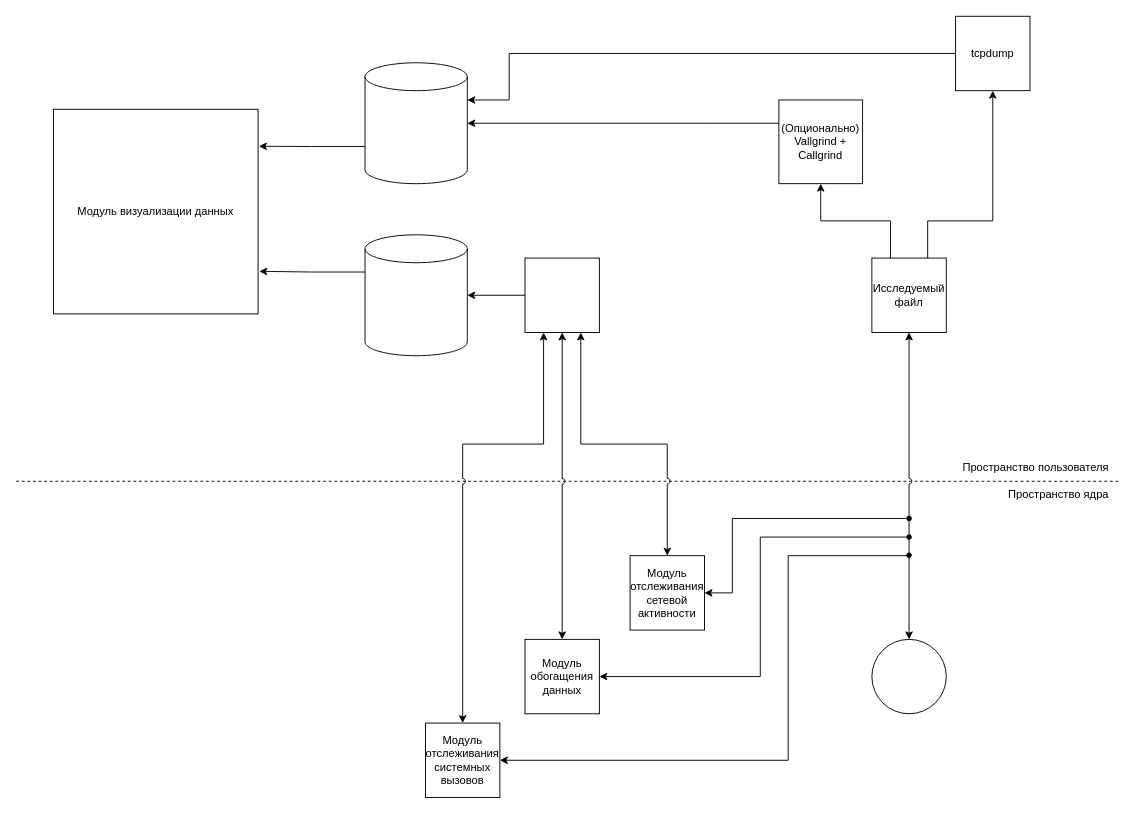
This 1137x814 diagram has some shape labels left out. Each missing label, with the box of its shape:
Дополнительные данные: (364, 62, 467, 184)
Загрузчик: (524, 257, 599, 332)
Основная база данных: (364, 234, 467, 356)
Ядро: (871, 638, 946, 714)
